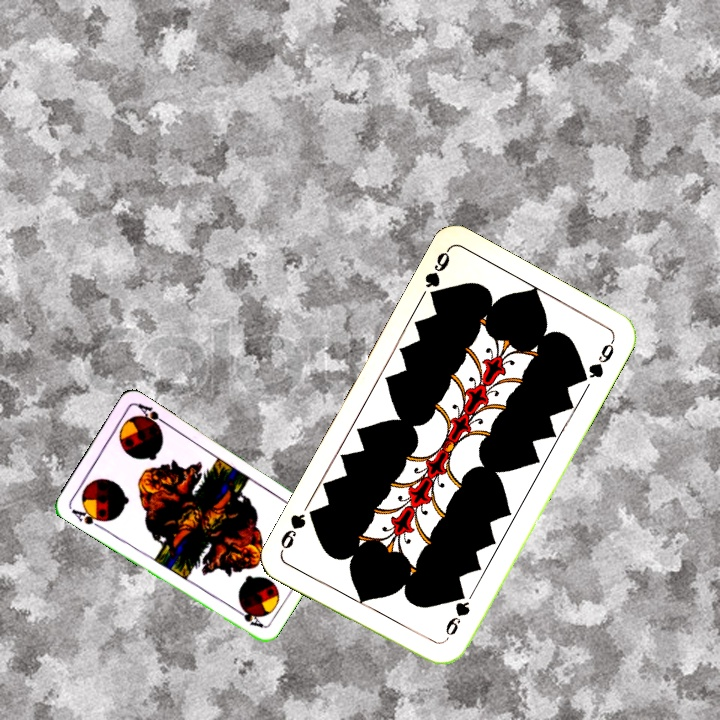G9: (420, 246, 453, 305), (440, 587, 473, 644)
SA: (68, 503, 107, 531)
